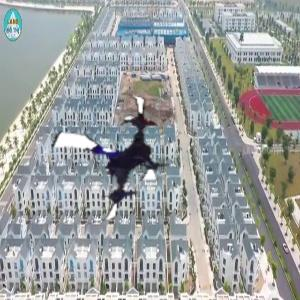drone: (40, 89, 180, 229)
